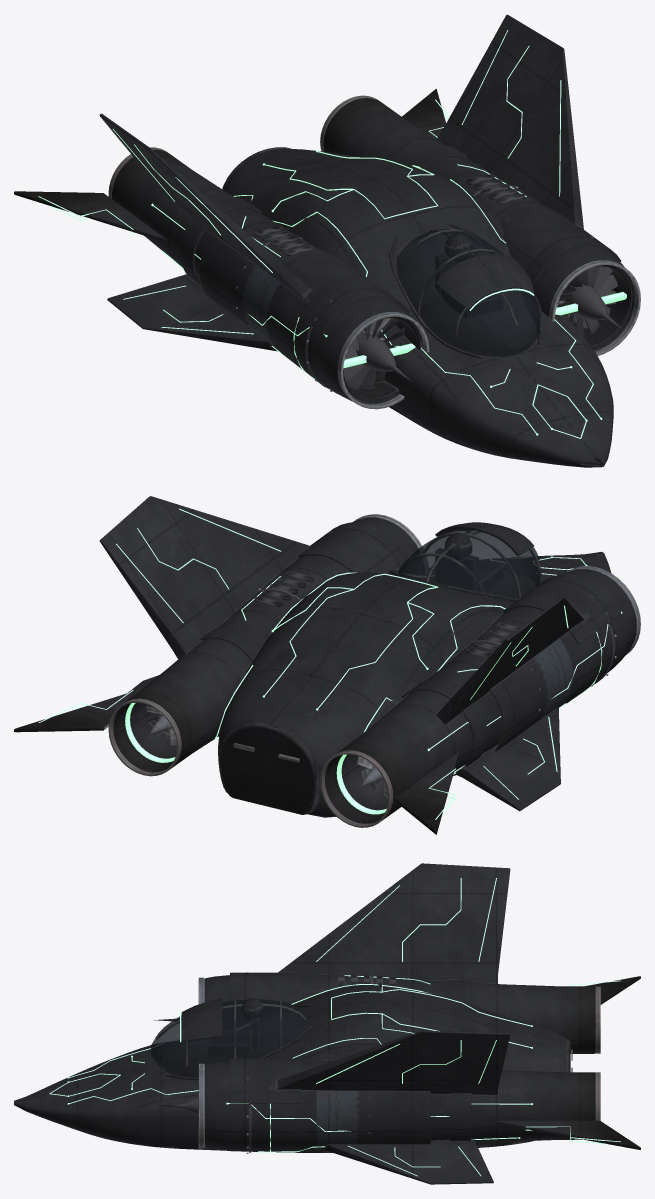
Rendered from spectre.glb.
The picture shows the model from 3 angles, top to bottom: view 1: azimuth 30°, elevation 25°; view 2: azimuth 150°, elevation 25°; view 3: azimuth 270°, elevation 25°; orthographic projection. The views are drawn at different scales.
Visible parts, largest first — view 1: spectre_body, spectre_glass, spectre_emissive, fan_R, fan_L; view 2: spectre_body, spectre_glass, spectre_emissive; view 3: spectre_body, spectre_glass, spectre_emissive.
Boxes of the visible parts, x1=… form: spectre_body: x1=14, y1=14, x2=640, y2=467; spectre_glass: x1=396, y1=228, x2=540, y2=356; spectre_emissive: x1=38, y1=30, x2=622, y2=438; fan_R: x1=343, y1=318, x2=415, y2=389; fan_L: x1=555, y1=266, x2=626, y2=334; spectre_body: x1=14, y1=496, x2=640, y2=834; spectre_glass: x1=398, y1=528, x2=540, y2=602; spectre_emissive: x1=38, y1=508, x2=622, y2=819; spectre_body: x1=14, y1=863, x2=640, y2=1184; spectre_glass: x1=151, y1=999, x2=305, y2=1077; spectre_emissive: x1=49, y1=878, x2=620, y2=1176.
Bounding box in the file's own units: 3.2 × 1.49 × 4.94.
Materials: 6 (2 with a texture image).
